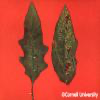Tomato Septoria leaf spot: (18, 2, 49, 88), (51, 1, 80, 86)
